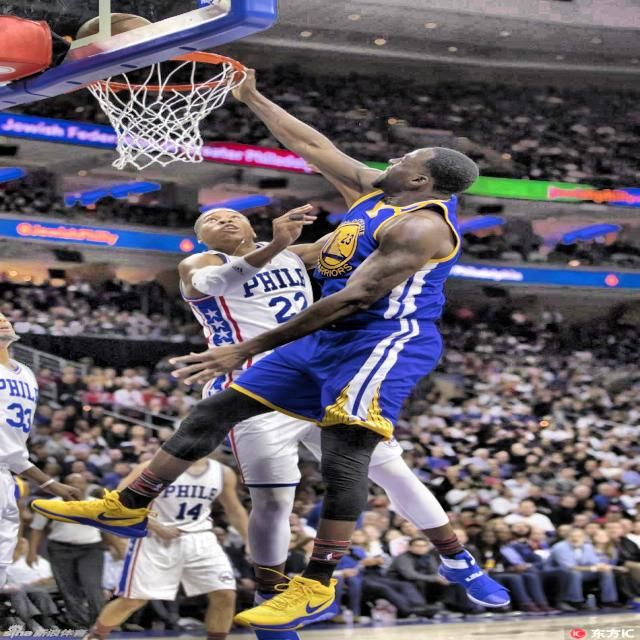rim: (85, 48, 247, 168)
